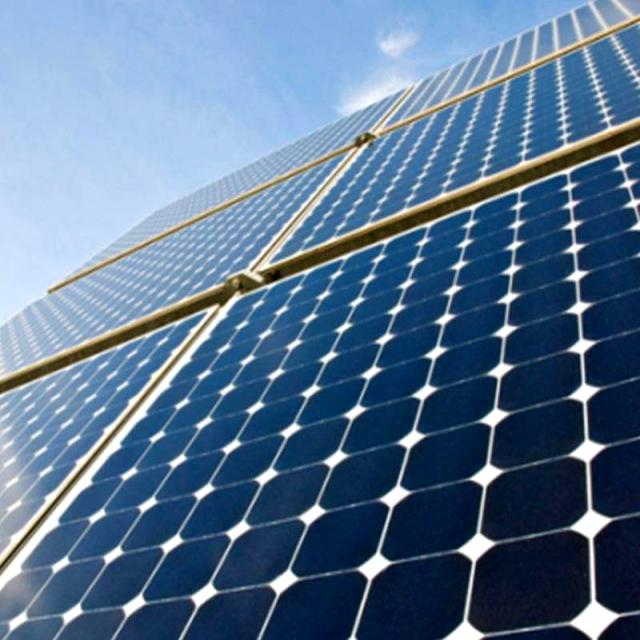crack: (0, 134, 622, 640)
